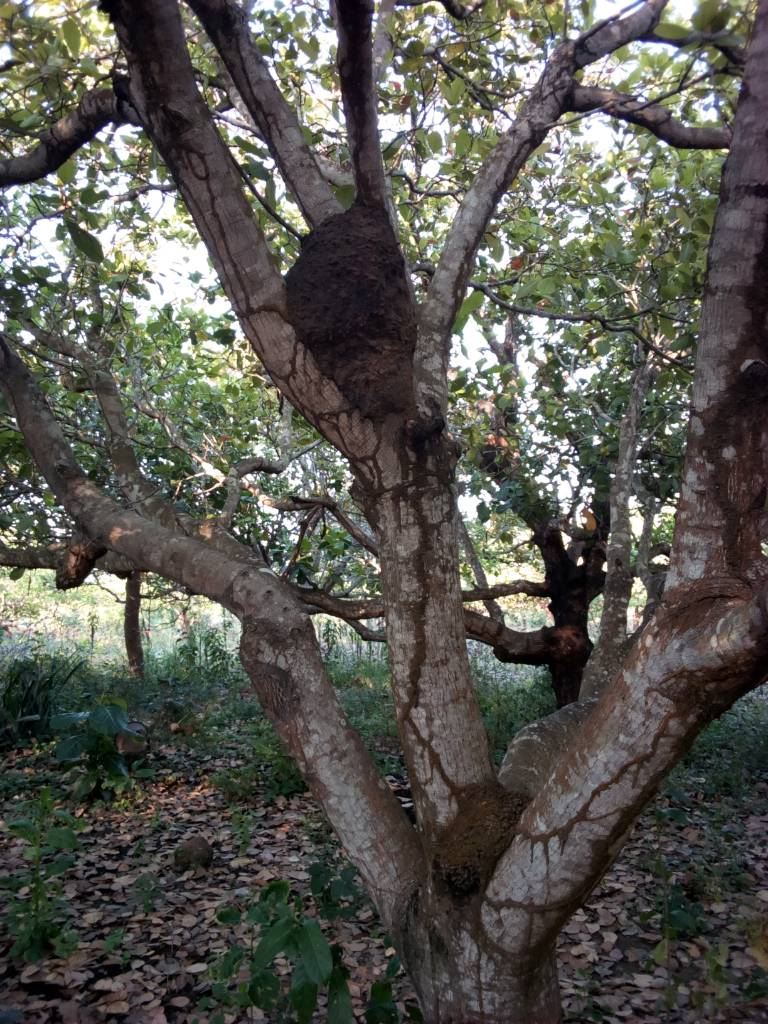Termites: (286, 205, 421, 411), (400, 494, 450, 771), (443, 780, 513, 892)
